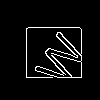W: (25, 25, 90, 90)
